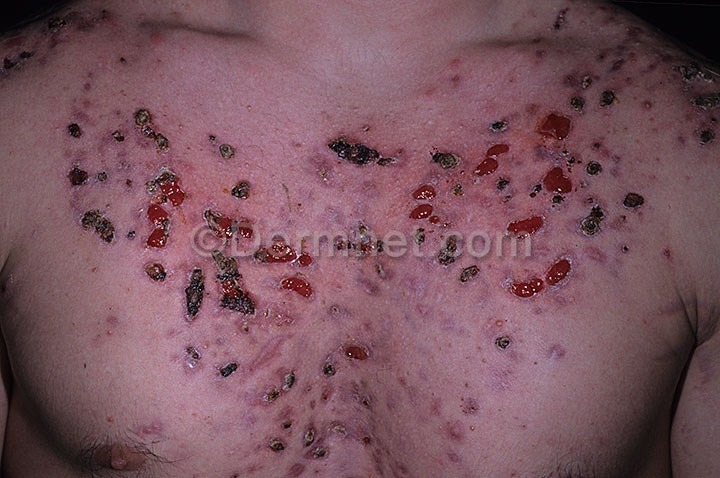Acne: (18, 12, 682, 470)
